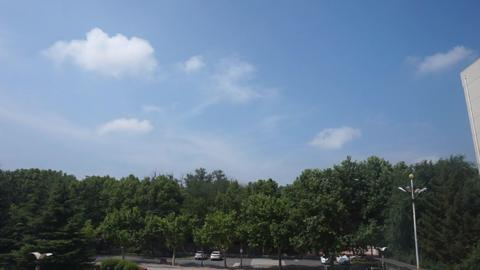UAV: (354, 179, 359, 181)
